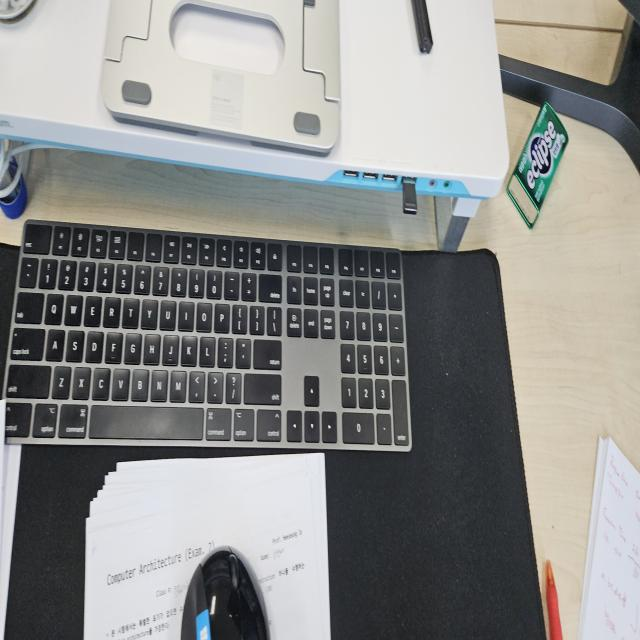Keyboard: (2, 216, 413, 453)
Mouse: (178, 542, 270, 638)
